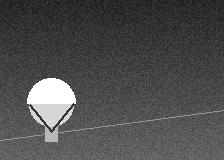helmet: (27, 78, 75, 131)
